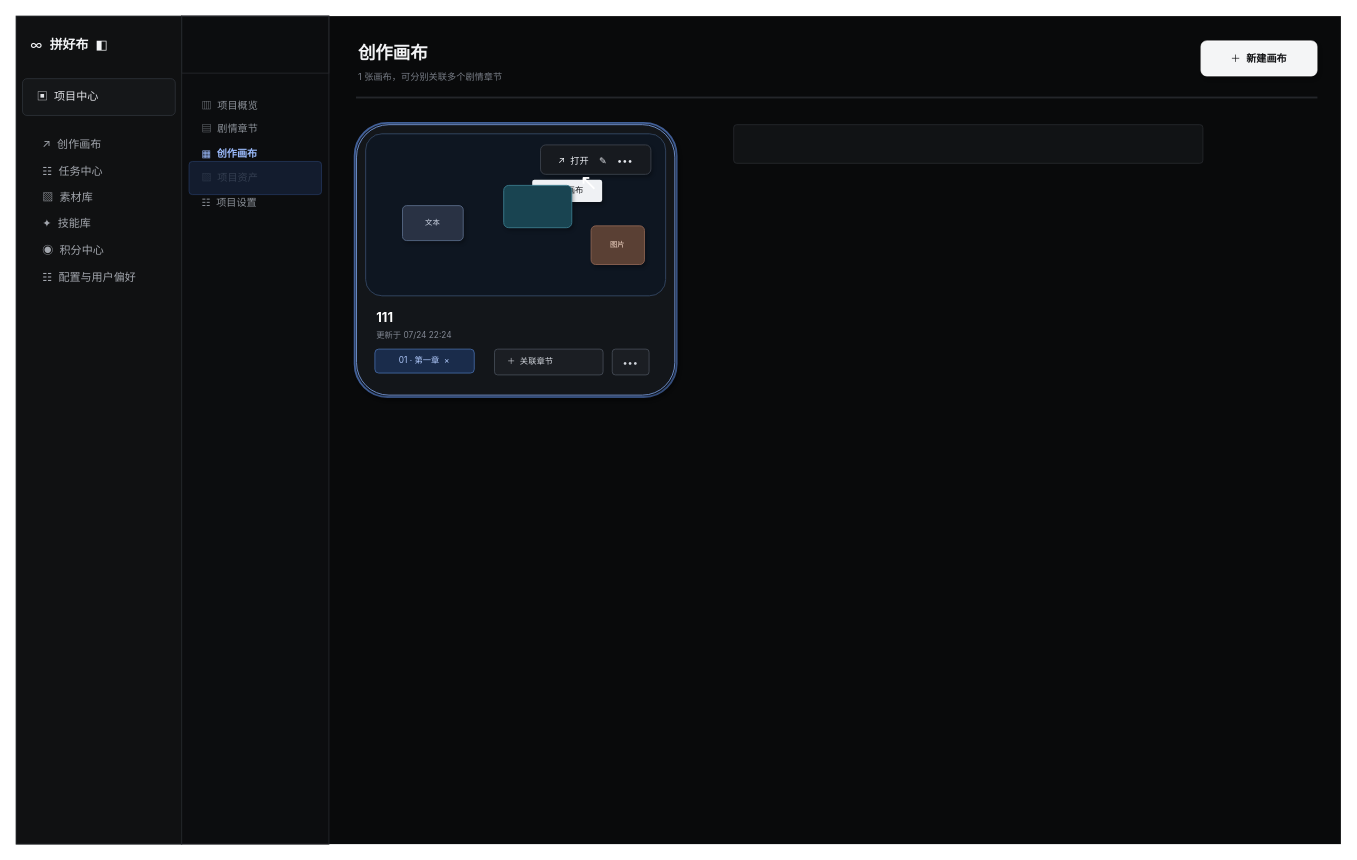
This 1357x860 diagram has some shape labels left out. Here are the shapes that lost their labels. From the top down, the centre of each, then its label:
At point 255,44: "‹ ▱ 测试项目 1 ● 进行中".
At point 968,143: "悬停反馈：卡片上移 2px，描边变亮，节点表面增强；快捷工具条 160ms 淡入，离开即消失。".
At point 538,207: "分镜".
